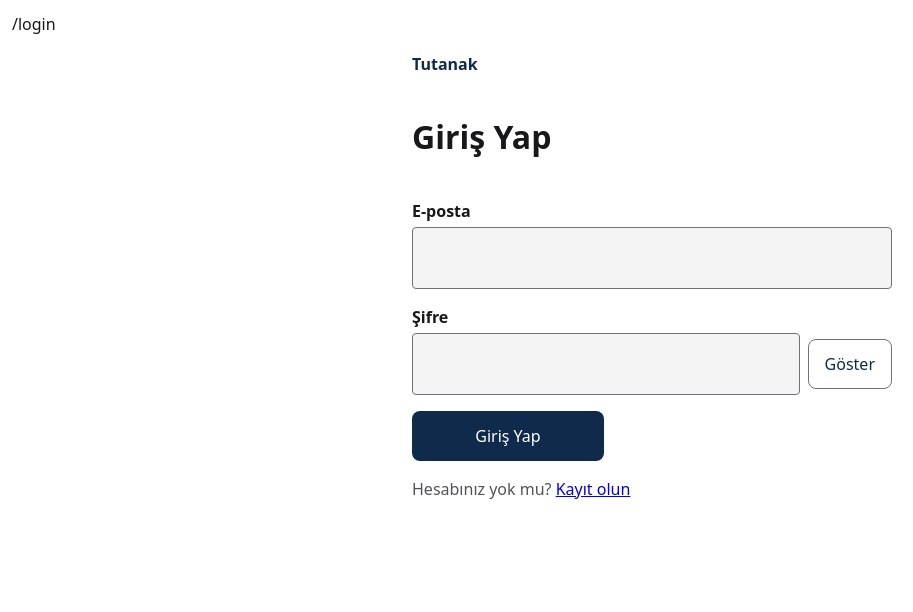
LoginPage › hata durumlari (kriter 3-4) › 429 yanitinda hiz siniri banner"i gosterir
Type "selin@ornek.com" into the field labelled "E-posta" at (652,258), box [412, 227, 892, 289]
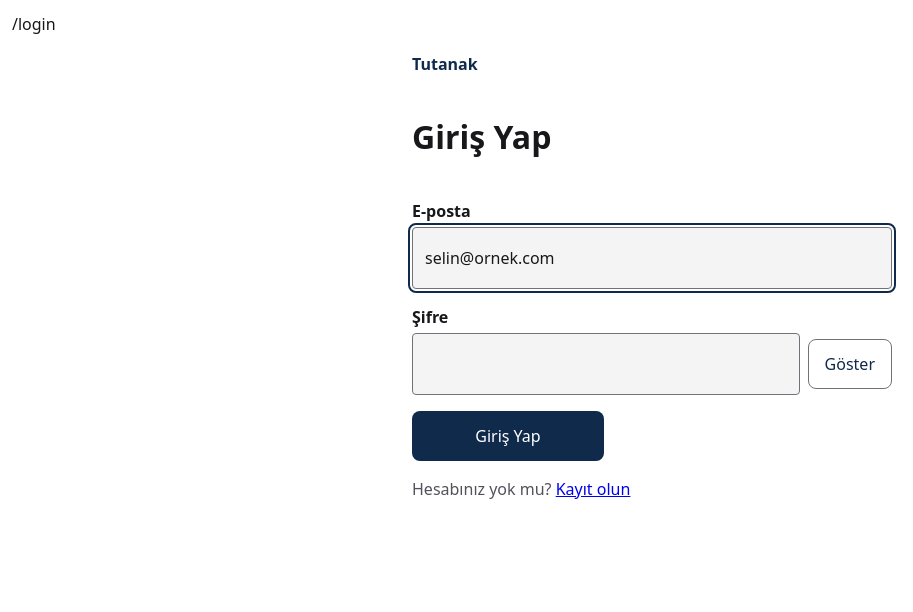
Type "cok-gizli-8" into the password field labelled "Şifre" at (606,364), box [412, 333, 800, 395]
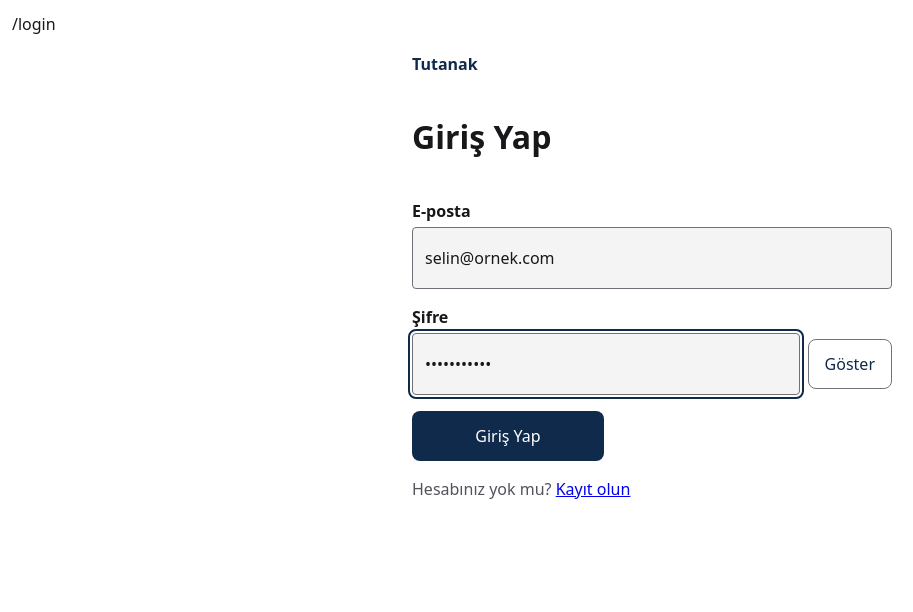
Click the button "Giriş Yap" at (508,436), box [412, 411, 604, 461]
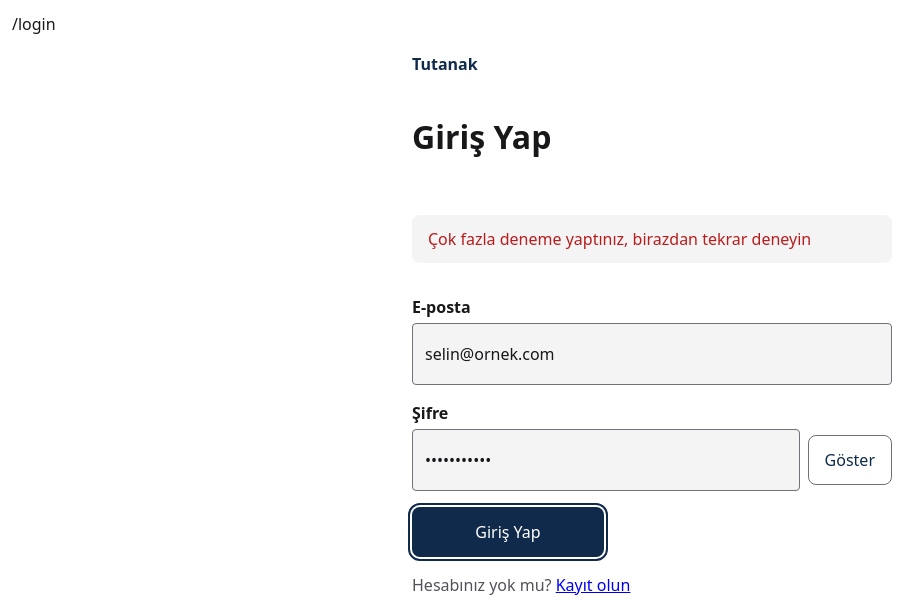
Expected: the message reads "Çok fazla deneme yaptınız, birazdan tekrar deneyin", [428, 228, 811, 250]
